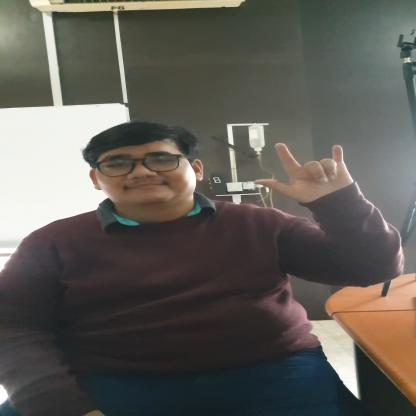ILoveYou: (260, 141, 364, 209)
